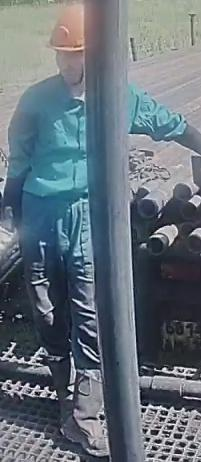gloves: (0, 220, 19, 257)
helmet: (41, 1, 85, 53)
vest: (0, 72, 89, 231)
